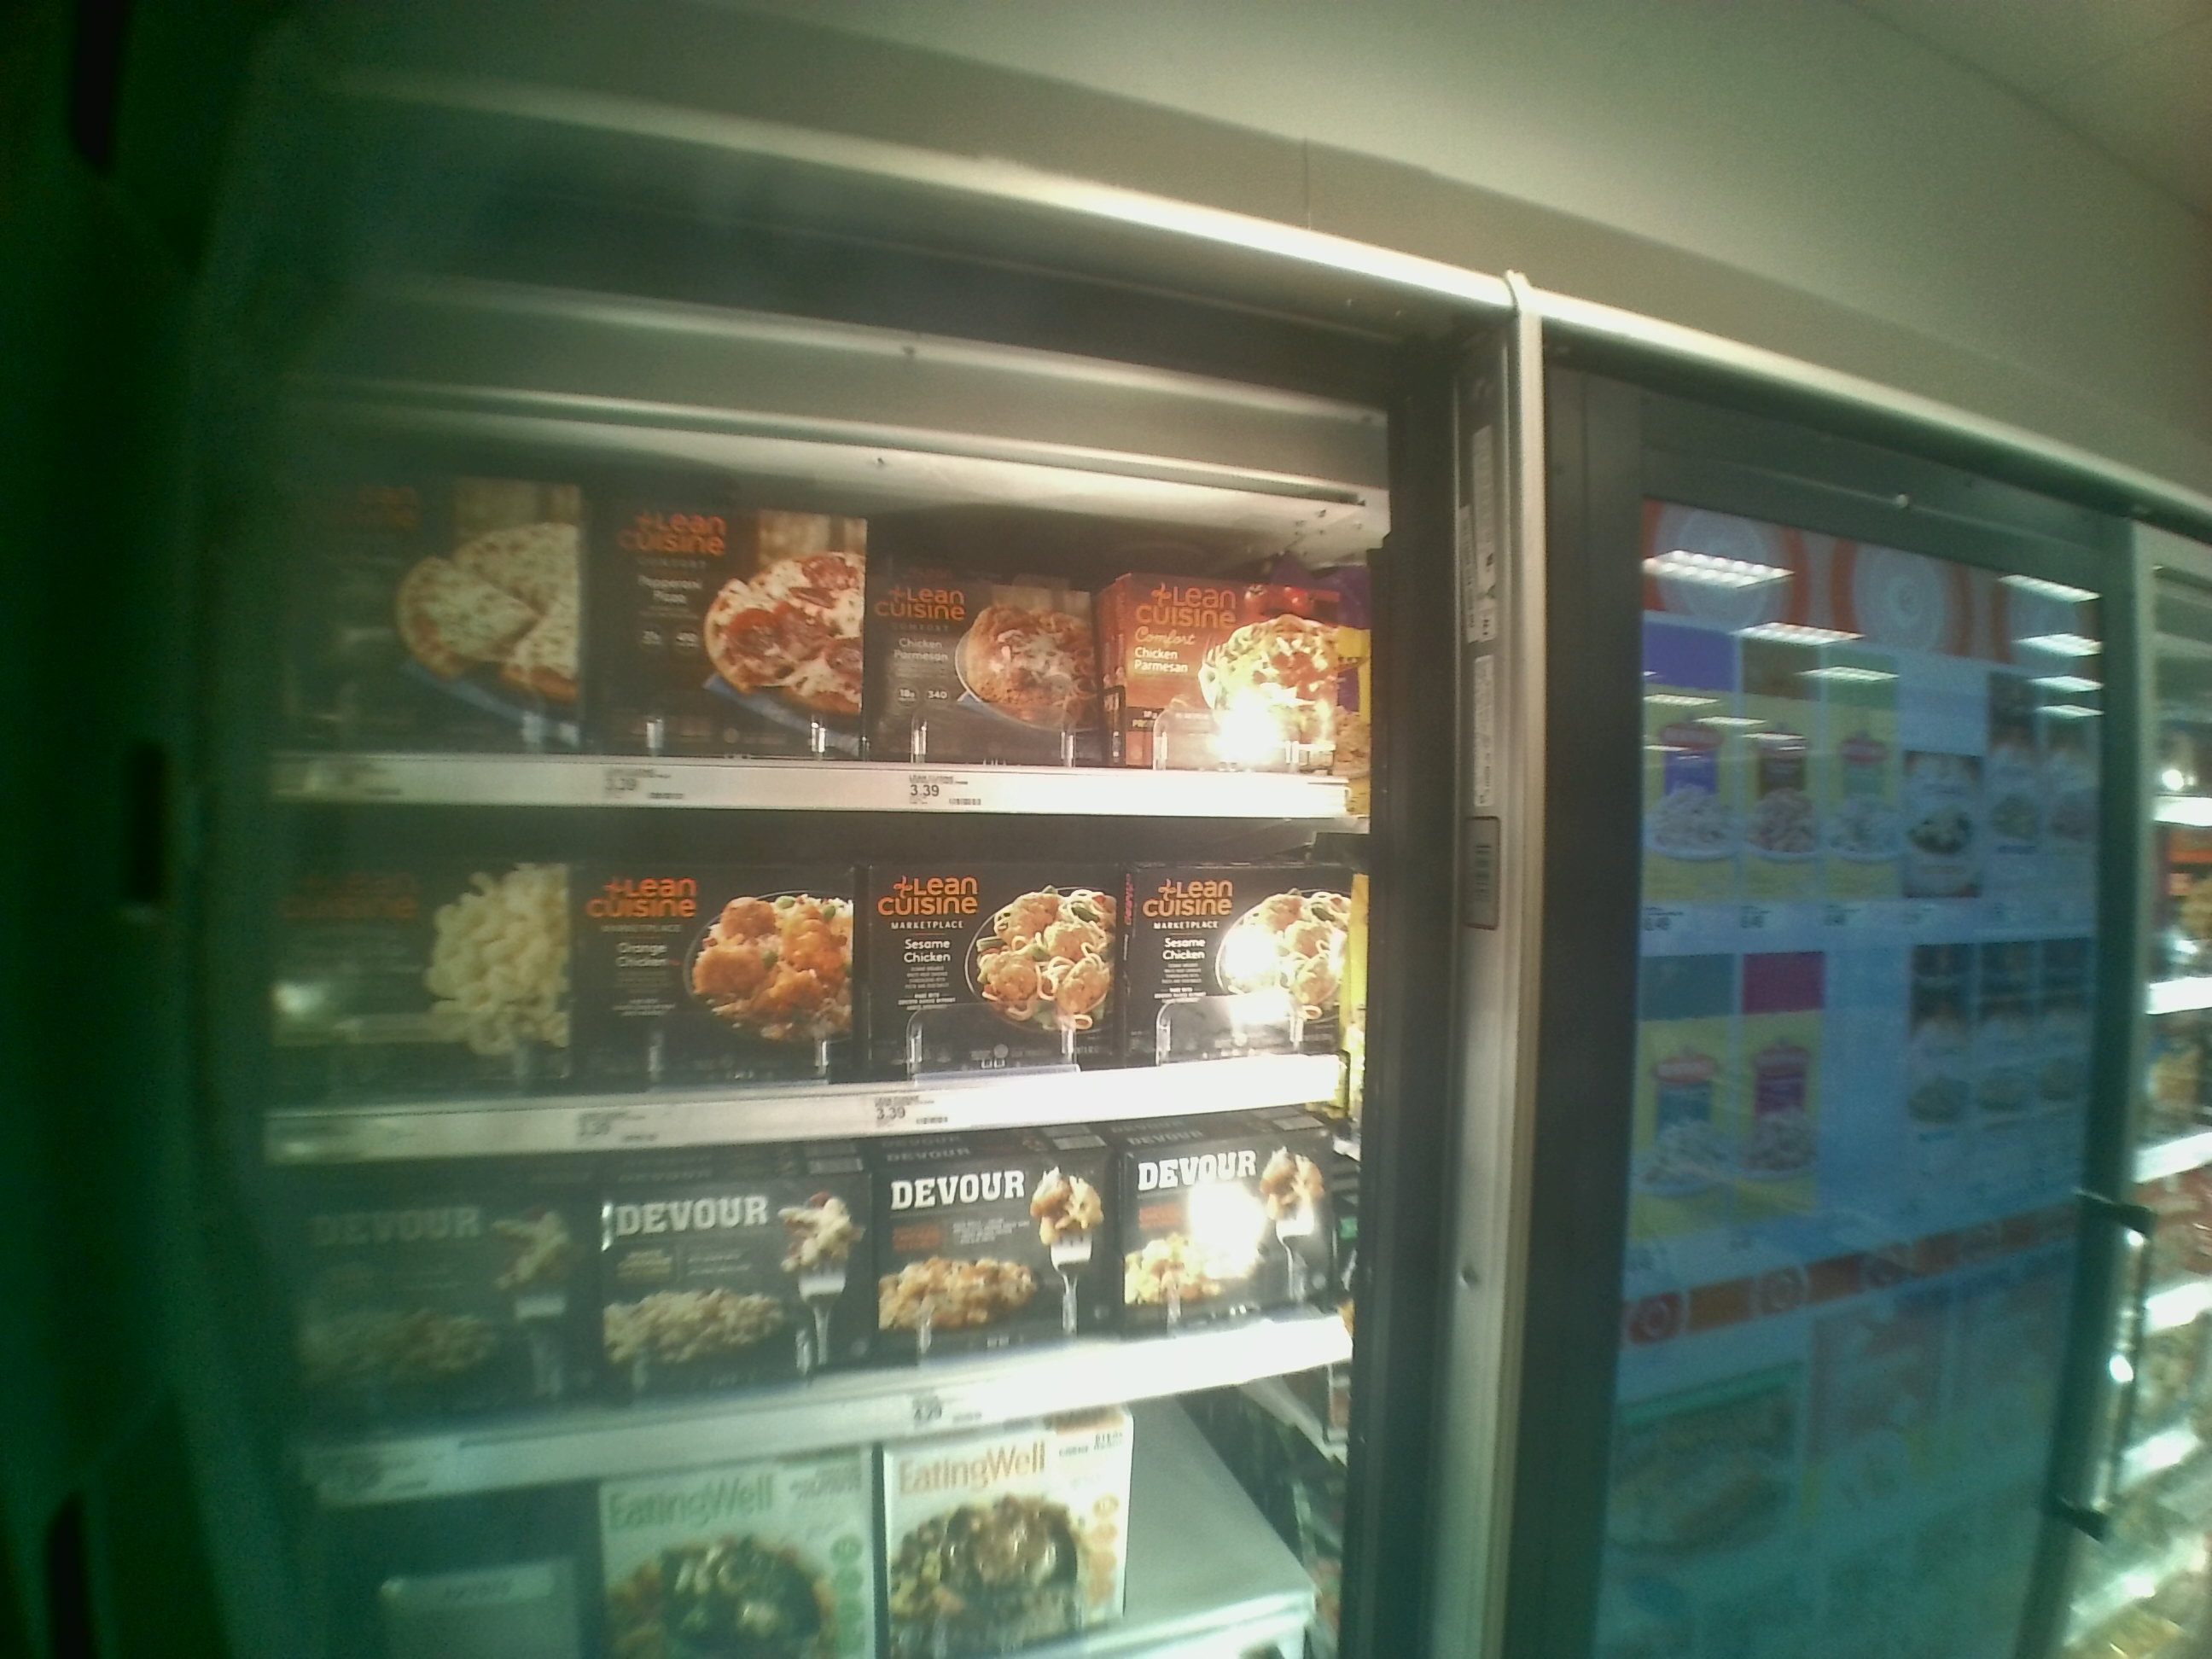pizza: (298, 477, 596, 741), (599, 498, 881, 749), (289, 863, 577, 1094), (294, 1201, 590, 1422), (578, 871, 853, 1070), (590, 1194, 874, 1382), (869, 1171, 1134, 1368), (867, 868, 1118, 1060), (892, 1432, 1125, 1636), (1115, 575, 1360, 762), (1130, 875, 1353, 1054), (1134, 1136, 1345, 1324), (887, 577, 1099, 753)
